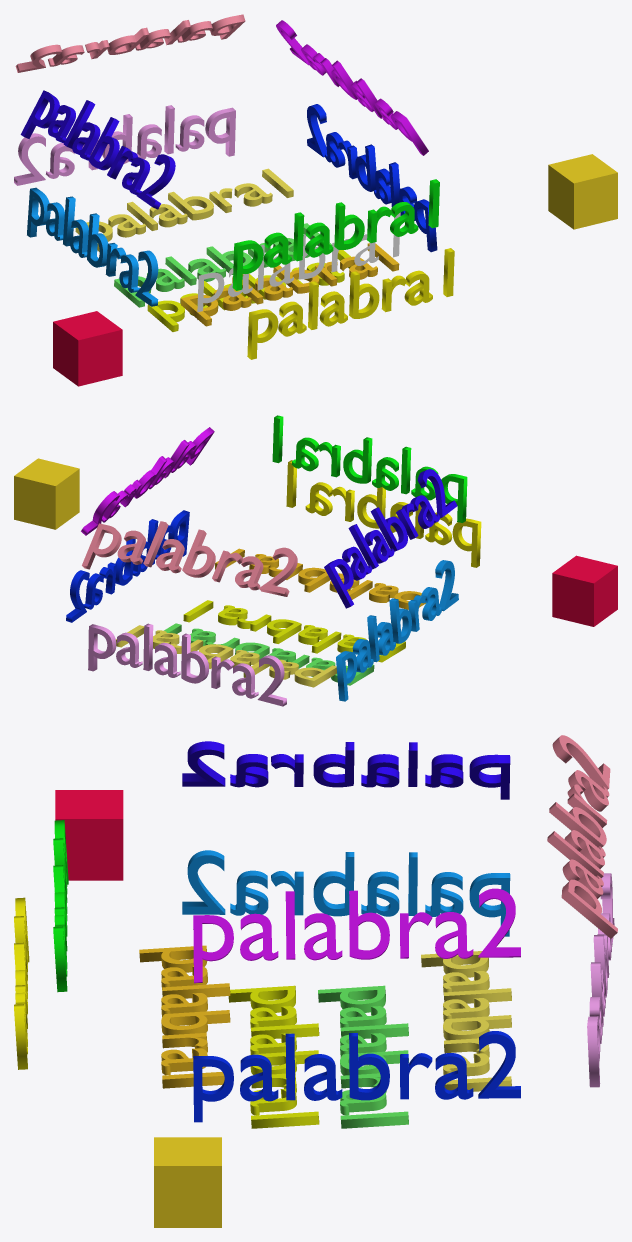
Rendered from palabras2.gltf.
3 views of the same model, one above another, from view 1: azimuth 30°, elevation 25°; view 2: azimuth 150°, elevation 25°; view 3: azimuth 270°, elevation 25° (orthographic). The views are drawn at different scales.
Visible parts, largest first — view 1: Text.007, Text.008, Text.005, Text.006, Text.004, Cube, Cube.001, Text.001, Text.012, Text.003, Text.009, Text.002 (+3 smaller); view 2: Text.003, Text.004, Text.005, Text.008, Text.006, Cube, Cube.001, Text.007, Text.001, Text.010, Text.012, Text.002 (+2 smaller); view 3: Text.001, Text.006, Text.002, Text.005, Text.003, Text.009, Text.012, Text.011, Cube, Text.010, Cube.001, Text.004 (+2 smaller).
Boxes of the visible parts, left/top/right/bottom form: Text.007: left=247, top=248, right=454, bottom=359; Text.008: left=232, top=179, right=439, bottom=290; Text.005: left=20, top=90, right=175, bottom=209; Text.006: left=27, top=187, right=158, bottom=306; Text.004: left=14, top=105, right=235, bottom=185; Cube: left=548, top=154, right=617, bottom=229; Cube.001: left=53, top=311, right=122, bottom=386; Text.001: left=307, top=104, right=437, bottom=252; Text.012: left=75, top=168, right=293, bottom=251; Text.003: left=15, top=14, right=245, bottom=72; Text.009: left=181, top=243, right=399, bottom=326; Text.002: left=276, top=20, right=428, bottom=155; Text.003: left=82, top=521, right=297, bottom=596; Text.004: left=88, top=623, right=286, bottom=706; Text.005: left=324, top=469, right=457, bottom=608; Text.008: left=272, top=415, right=467, bottom=522; Text.006: left=336, top=560, right=458, bottom=701; Cube: left=14, top=458, right=79, bottom=529; Cube.001: left=552, top=555, right=617, bottom=626; Text.007: left=286, top=460, right=481, bottom=567; Text.001: left=66, top=510, right=189, bottom=622; Text.010: left=183, top=600, right=405, bottom=662; Text.012: left=116, top=625, right=336, bottom=687; Text.002: left=81, top=427, right=214, bottom=535; Text.001: left=193, top=1031, right=520, bottom=1122; Text.006: left=182, top=850, right=510, bottom=936; Text.002: left=193, top=888, right=520, bottom=983; Text.005: left=182, top=741, right=510, bottom=799; Text.003: left=547, top=735, right=617, bottom=938; Text.009: left=139, top=945, right=230, bottom=1088; Text.012: left=421, top=951, right=511, bottom=1091; Text.011: left=318, top=985, right=408, bottom=1128; Cube: left=154, top=1137, right=221, bottom=1227; Text.010: left=228, top=985, right=319, bottom=1128; Cube.001: left=55, top=790, right=123, bottom=880; Text.004: left=587, top=873, right=614, bottom=1087.
Bounding box in the file's own units: 8.98 × 2.92 × 6.1.
